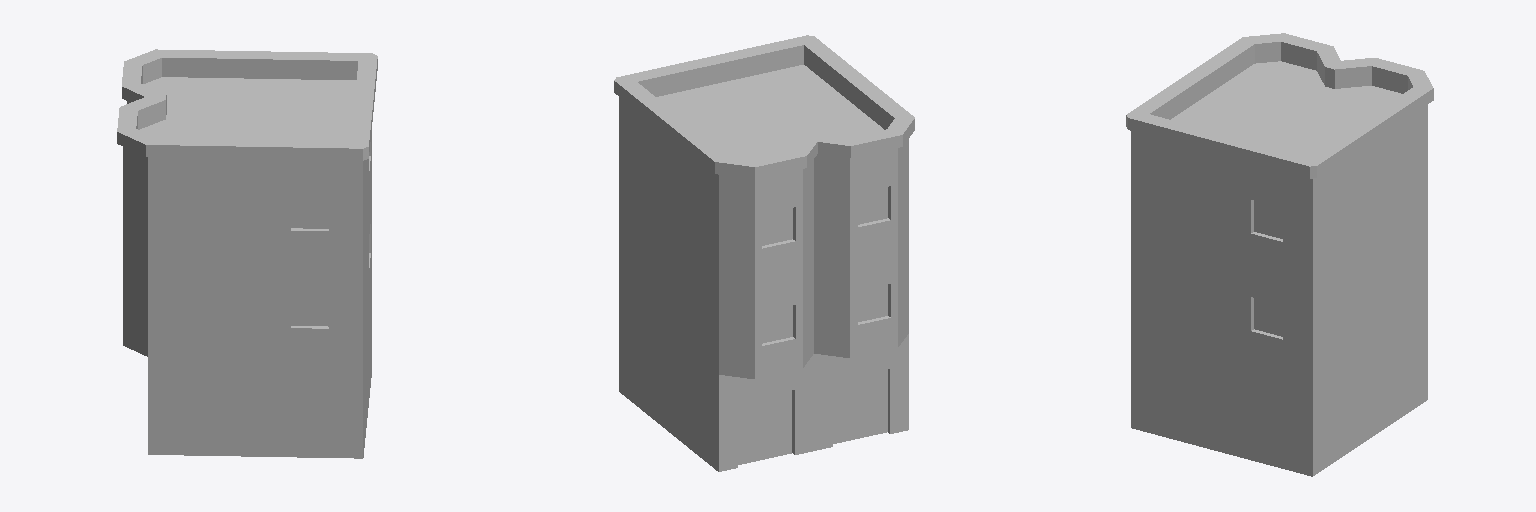
Rendered from variant_8.obj.
The picture shows the model from 3 angles: view 1: azimuth 30°, elevation 25°; view 2: azimuth 150°, elevation 25°; view 3: azimuth 270°, elevation 25°; orthographic projection.
Visible parts, largest first — view 1: small_buildingA; view 2: small_buildingA; view 3: small_buildingA.
Boxes of the visible parts, box(x1,y1,x2,y2) form: small_buildingA: box(117, 49, 377, 458); small_buildingA: box(614, 35, 914, 471); small_buildingA: box(1126, 33, 1433, 476).
Bounding box in the file's own units: 1.17 × 1.28 × 1.14.